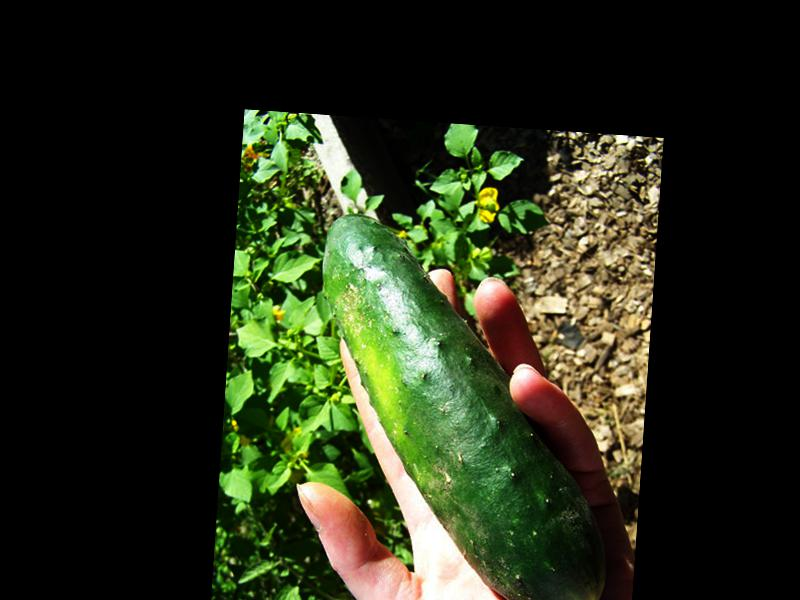Cucumber: (301, 211, 627, 600)
